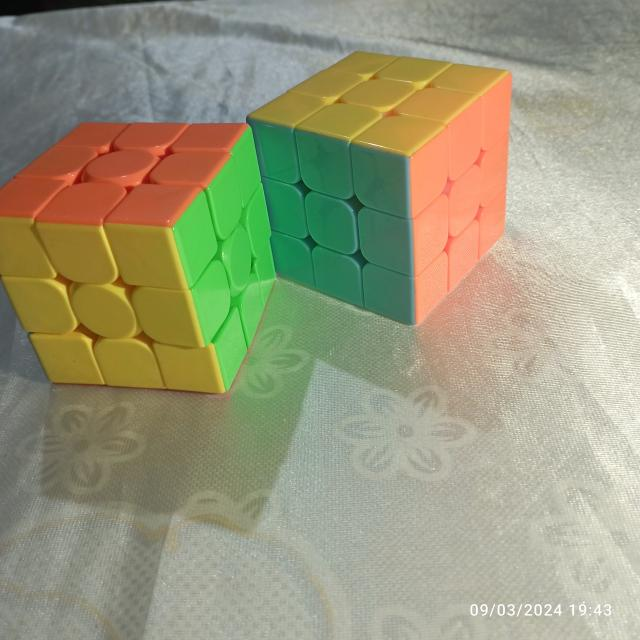Rub: (0, 116, 282, 397), (239, 45, 516, 330)
